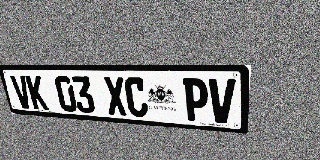0: (53, 76, 78, 112)
3: (71, 76, 96, 114)
C: (124, 77, 149, 118)
K: (25, 75, 49, 110)
P: (183, 78, 208, 122)
V: (209, 78, 236, 124), (10, 75, 33, 109)
X: (103, 77, 128, 116)
